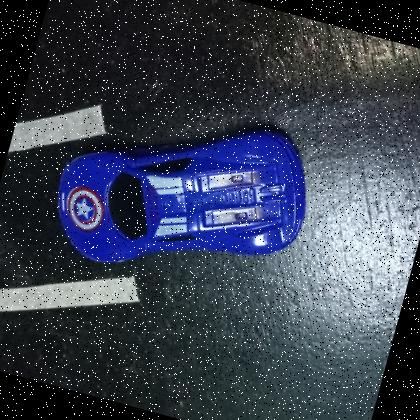Car: (38, 79, 326, 313)
